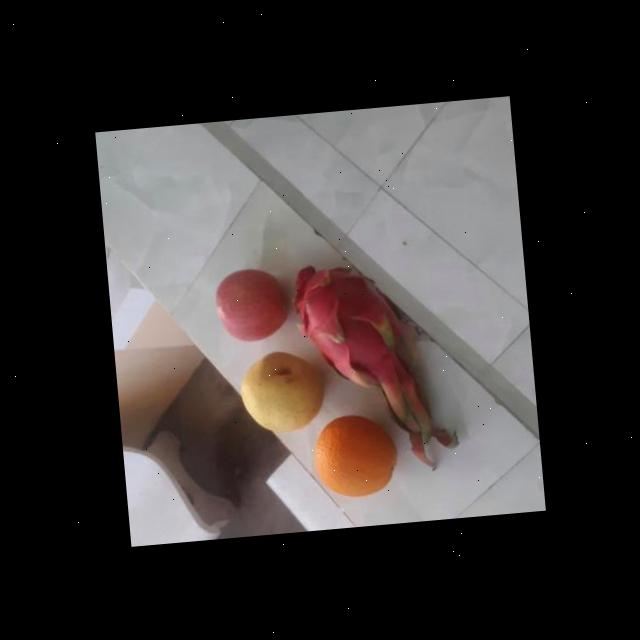apple: (212, 262, 289, 344)
orange: (309, 408, 399, 498)
pear: (238, 342, 328, 436)
pitaya: (292, 252, 406, 384)
